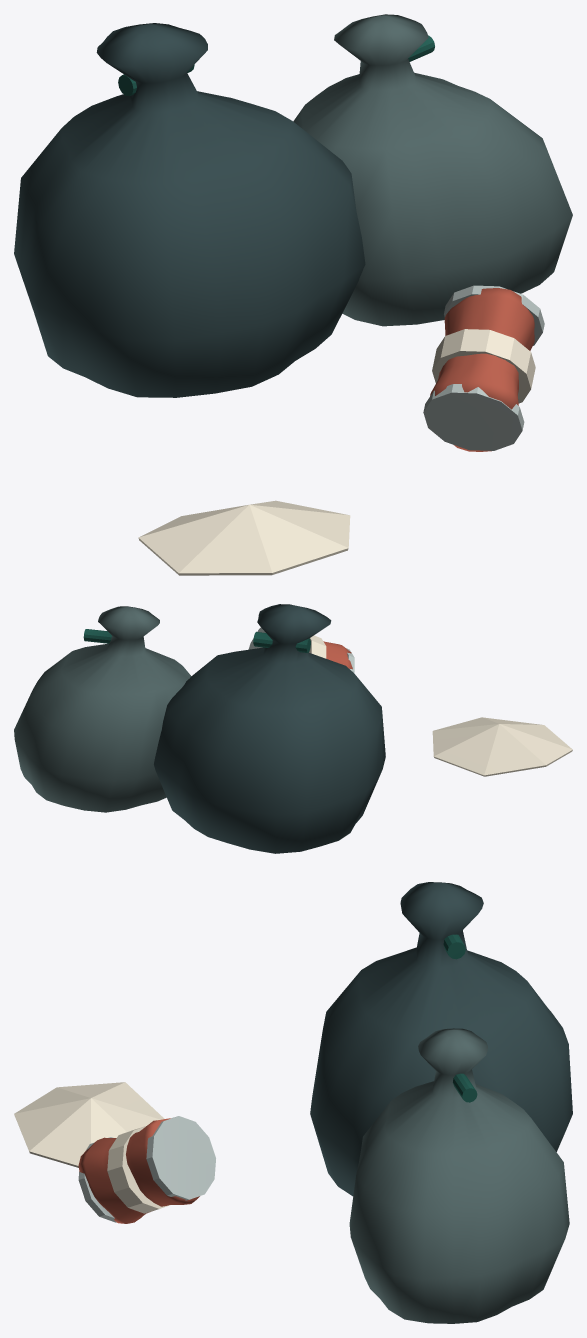
Rendered from waste-partial.glb.
The picture shows the model from 3 angles, top to bottom: view 1: azimuth 30°, elevation 25°; view 2: azimuth 150°, elevation 25°; view 3: azimuth 270°, elevation 25°; orthographic projection. The views are drawn at different scales.
Visible parts, largest first — view 1: creased tied refuse sack, pinched sack fold, can stripe, crumpled drink can, aluminium can end; view 2: creased tied refuse sack, pinched sack fold, can stripe, sack knot, crumpled drink can; view 3: pinched sack fold, creased tied refuse sack, can stripe, aluminium can end, crumpled drink can, sack knot.
Boxes of the visible parts, x1,y1,x2,y2 form: creased tied refuse sack: (14, 23, 365, 397); pinched sack fold: (293, 14, 572, 326); can stripe: (138, 329, 535, 575); crumpled drink can: (430, 288, 534, 451); aluminium can end: (423, 285, 544, 450); creased tied refuse sack: (154, 604, 385, 853); pinched sack fold: (14, 606, 191, 812); can stripe: (309, 635, 572, 776); sack knot: (83, 629, 310, 652); crumpled drink can: (323, 641, 352, 669); pinched sack fold: (349, 1028, 569, 1323); creased tied refuse sack: (310, 882, 572, 1196); can stripe: (14, 1082, 170, 1213); aluminium can end: (78, 1116, 215, 1222); crumpled drink can: (78, 1118, 199, 1223); sack knot: (443, 934, 477, 1102).
Bounding box in the file's own units: 0.898 × 0.4843 × 0.8486.
